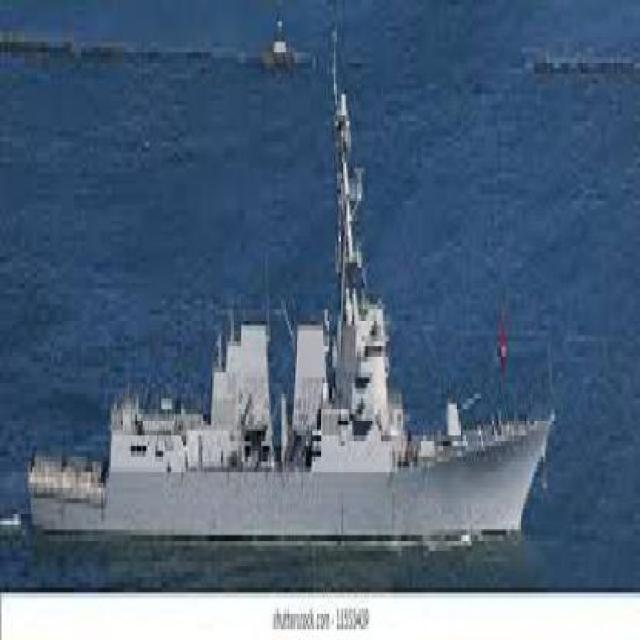warship2: (16, 49, 564, 589)
